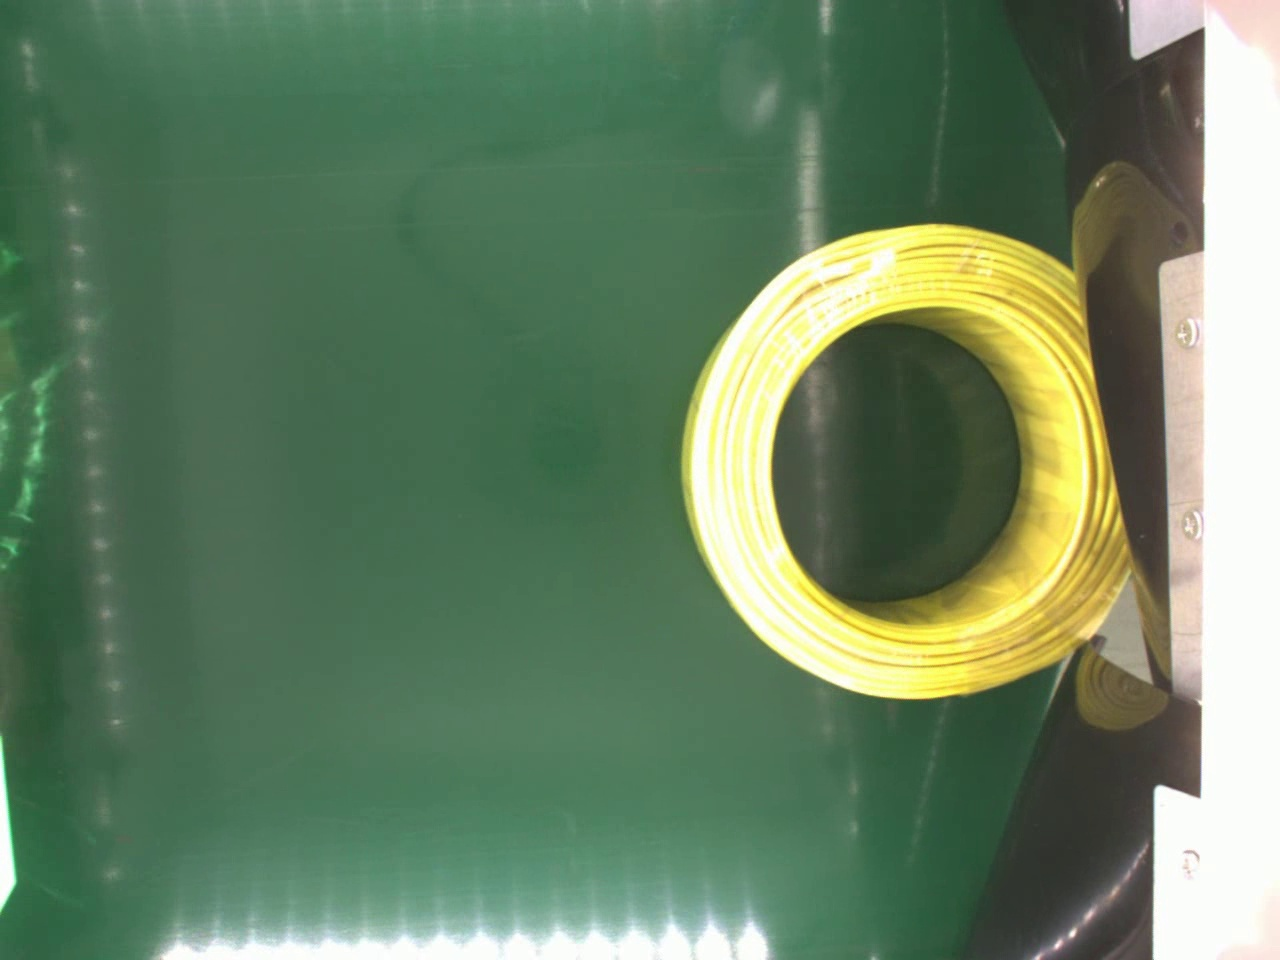yellow: (681, 219, 1136, 703)
